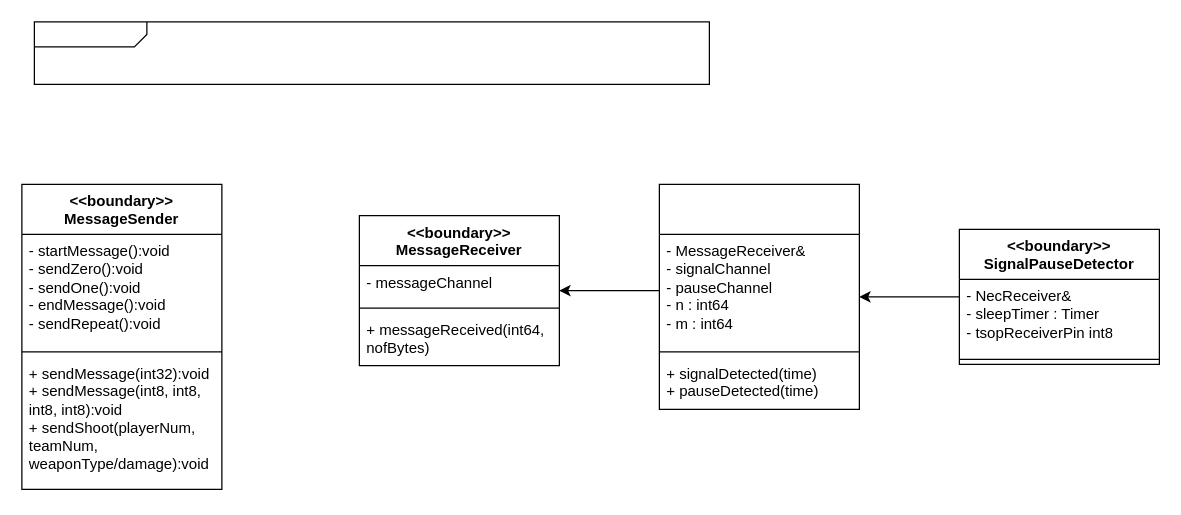
This 1181x515 diagram has some shape labels left out. Here are the shapes that lost their labels. From the top down, the box of each, then its label:
(33, 21, 709, 84): idb Block1
(658, 183, 859, 409): <<boundary>> NecReceiver
